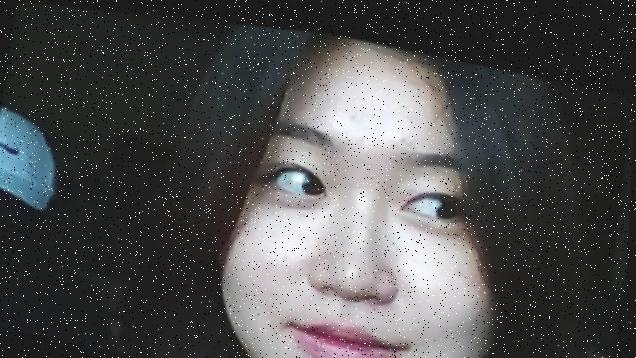eye: (303, 164, 331, 193), (437, 188, 464, 213)
iris: (398, 177, 471, 217), (262, 153, 330, 194)
